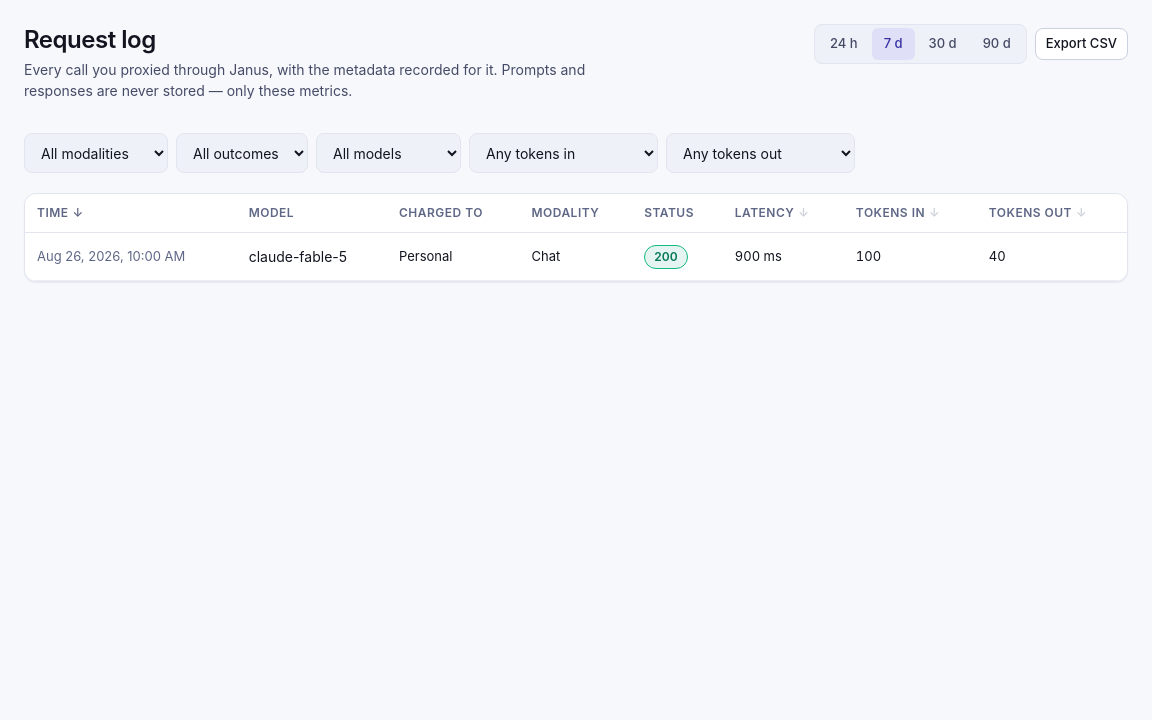
Requests — cost column and detail row › flag on: no Cost column, no cost detail row — tokens still shown
Expected: the column heading "Tokens in ↓" is shown, x1=844 y1=194 x2=977 y2=233
Expected: the column heading "Tokens out ↓" is shown, x1=977 y1=194 x2=1127 y2=233
What coordinates should you click on to do the following:
click the text "claude-fable-5"
I would click on:
 (576, 257)
Its box is x1=25 y1=233 x2=1127 y2=281.
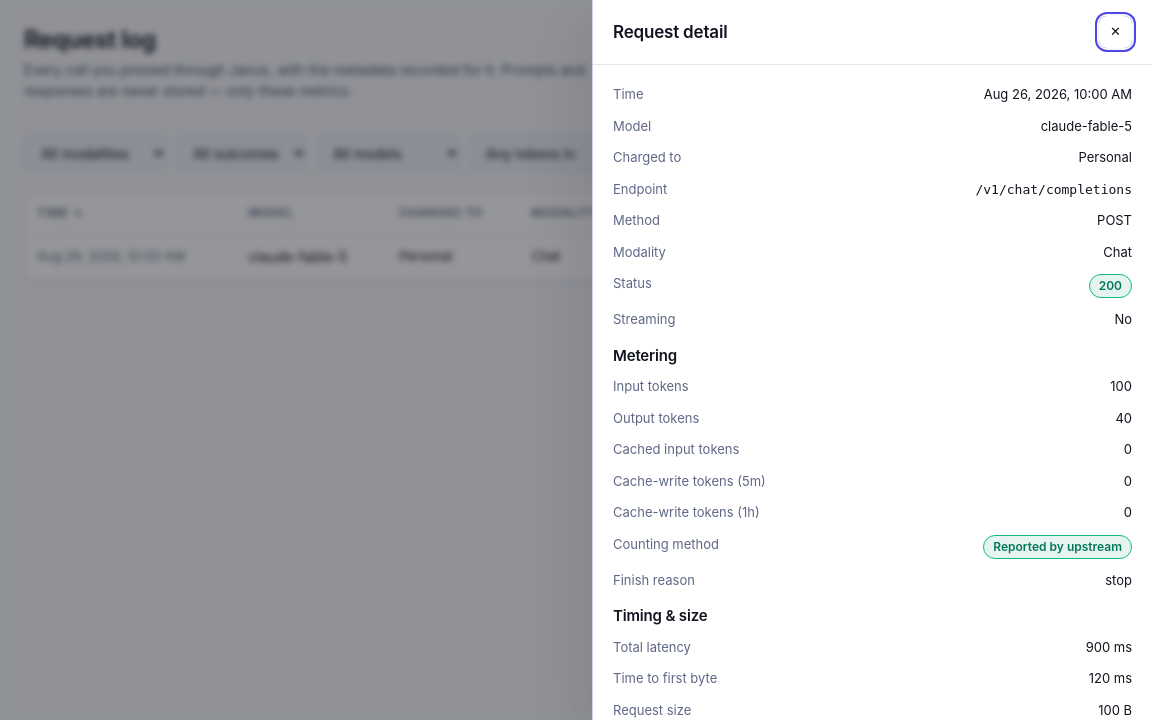
Expected: the text "Input tokens" is shown, x1=613 y1=378 x2=689 y2=394
